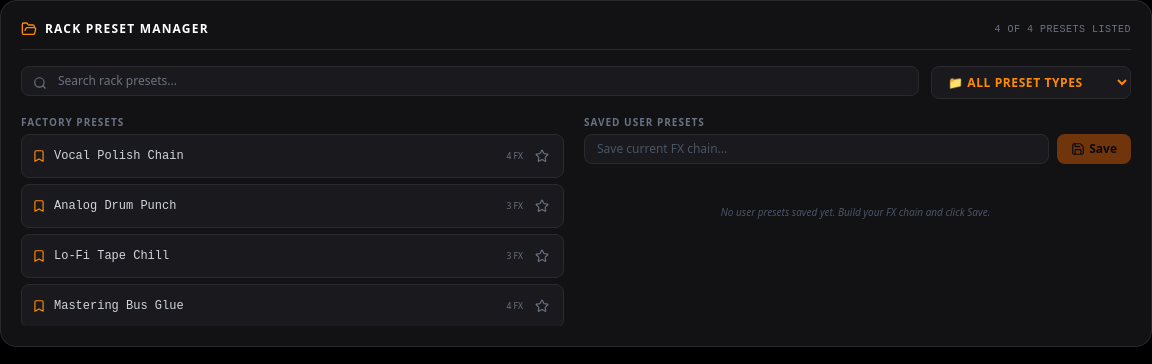
PresetBrowser › saves the current rack as a user preset
Step 1. Type "My Chain" into the field with placeholder "Save current FX chain..." → (817, 149), box [584,134,1049,164]
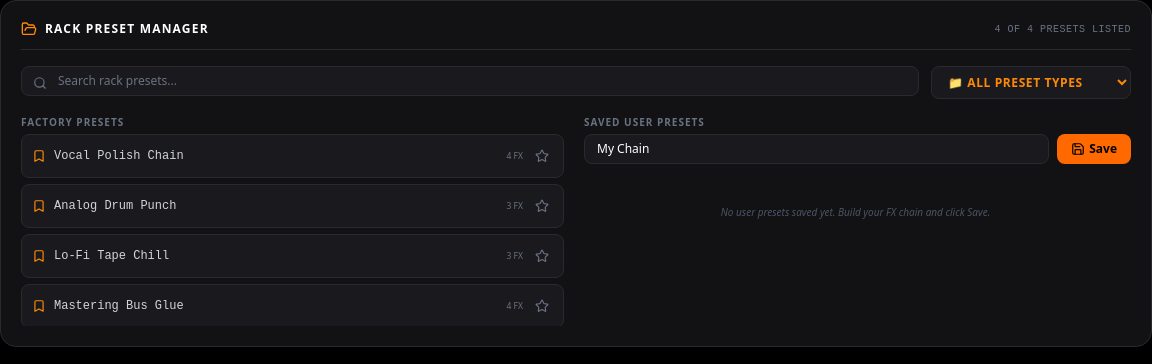
Step 2. Click the button "Save" → (1094, 149), box [1057,134,1131,164]
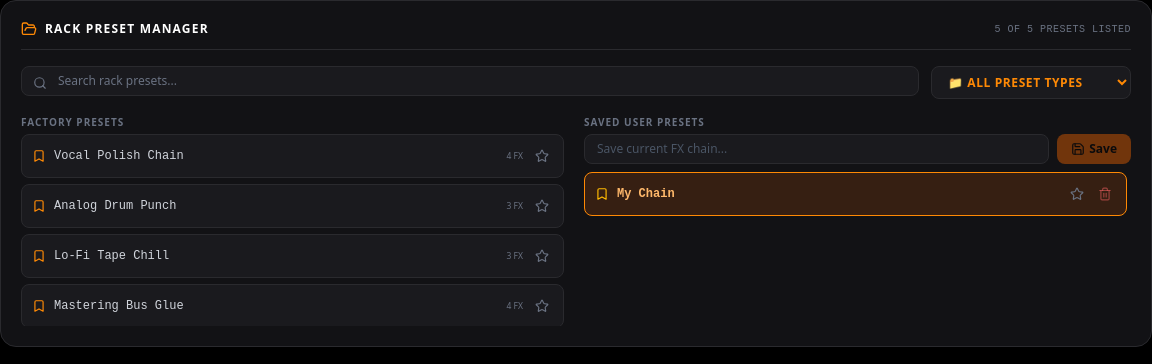
Expected: the text "My Chain" is shown, [617,186,679,202]
